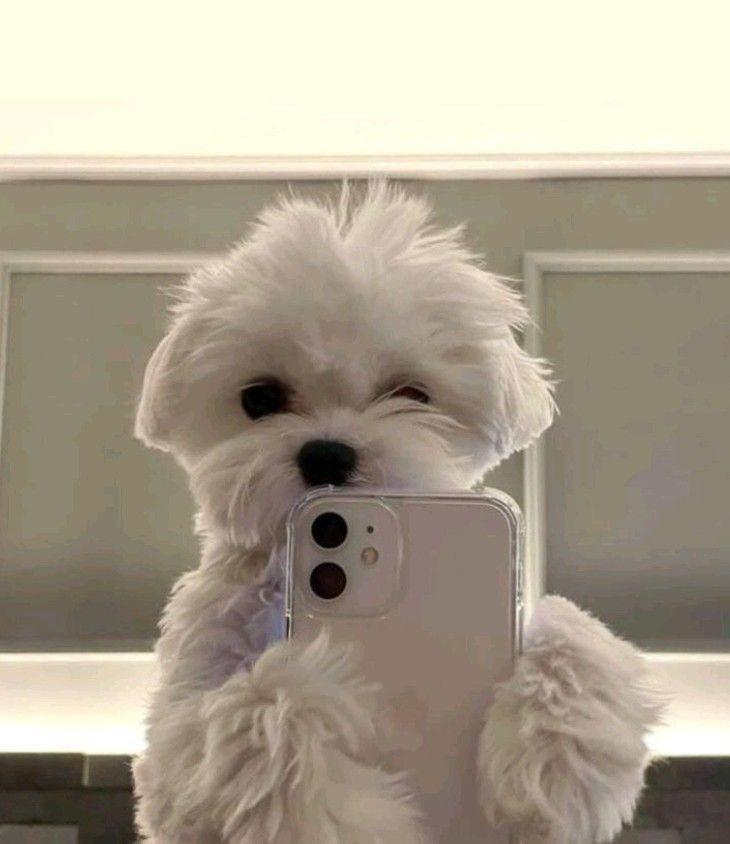puppy-dog: (128, 176, 670, 844)
